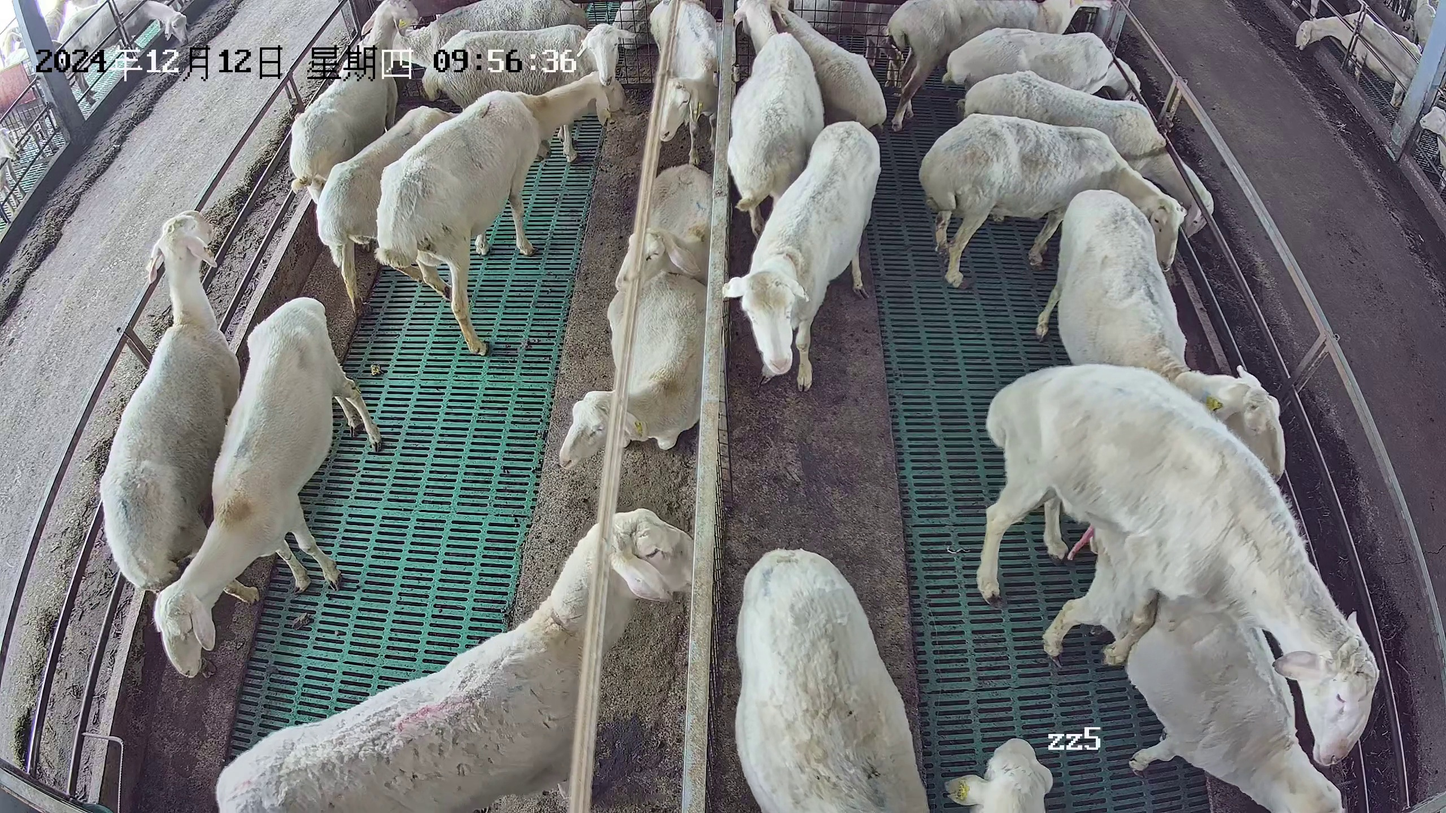Smounting: (973, 361, 1382, 813)
mounted: (1040, 531, 1348, 812)
